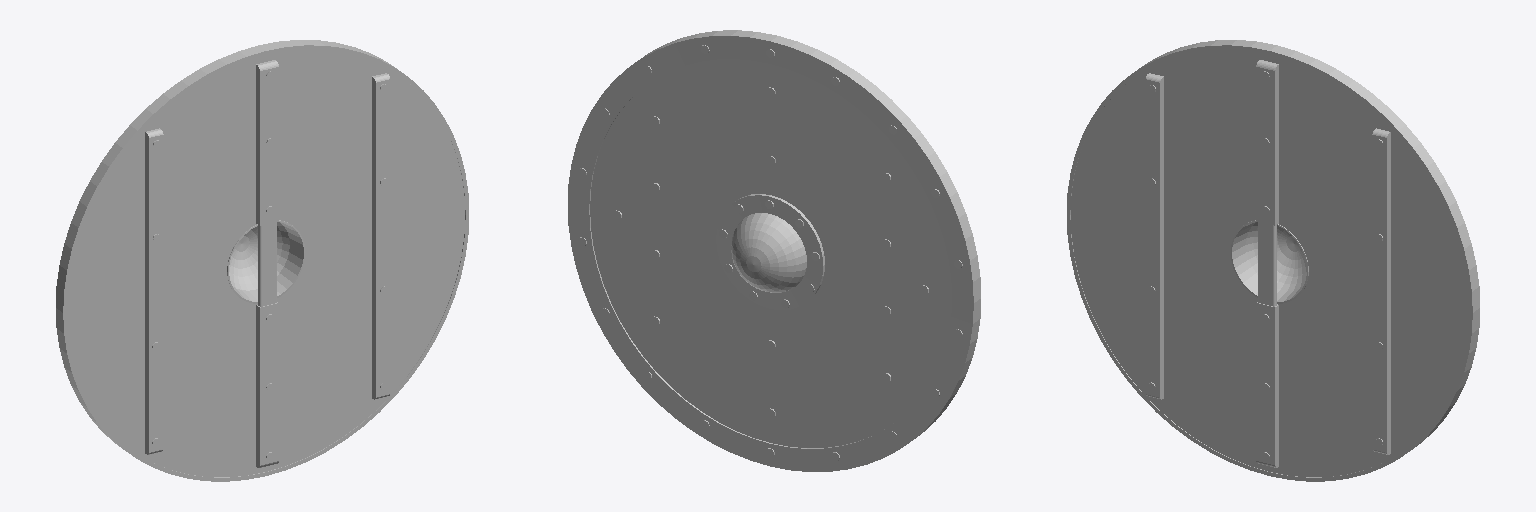
Rendered from shield.obj.
3 views of the same model, side by side, from view 1: azimuth 30°, elevation 25°; view 2: azimuth 150°, elevation 25°; view 3: azimuth 330°, elevation 25° (orthographic).
Parts seen in each view (by area): view 1: Shield_Sphere.002_Shield_Sphere.004; view 2: Shield_Sphere.002_Shield_Sphere.004; view 3: Shield_Sphere.002_Shield_Sphere.004.
Part boxes in pixels (bbox=[...]): Shield_Sphere.002_Shield_Sphere.004: bbox=[56, 40, 468, 481]; Shield_Sphere.002_Shield_Sphere.004: bbox=[568, 30, 980, 471]; Shield_Sphere.002_Shield_Sphere.004: bbox=[1067, 40, 1479, 481].
Bounding box in the file's own units: 2.6 × 2.6 × 0.321.